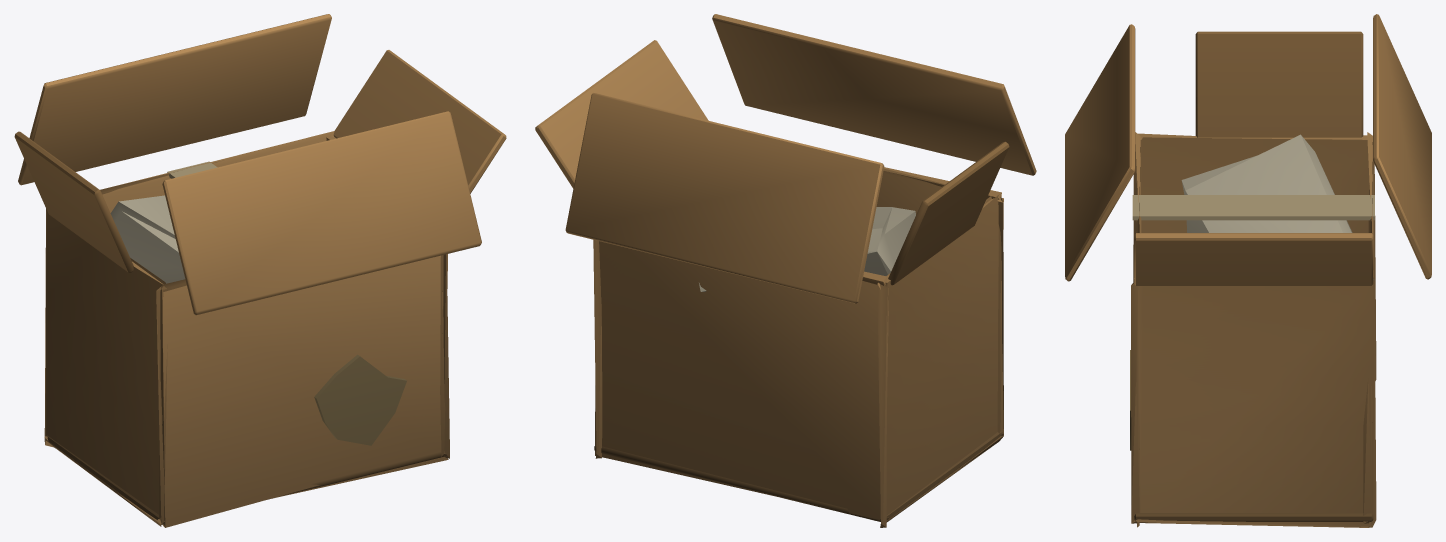
The model's file is 22a_carton_ouvert.fbx.
3 views of the same model, side by side, from view 1: azimuth 30°, elevation 25°; view 2: azimuth 150°, elevation 25°; view 3: azimuth 270°, elevation 25° (orthographic). The views are drawn at different scales.
Visible parts, largest first — view 1: Carton; view 2: Carton; view 3: Carton.
Part boxes in pixels (x1,y1,x2,y2): Carton: (14, 14, 506, 527); Carton: (535, 14, 1036, 527); Carton: (1065, 14, 1431, 527).
Size of the model in its own units: 0.588 by 0.532 by 0.476.
1 material, 1 textured.
